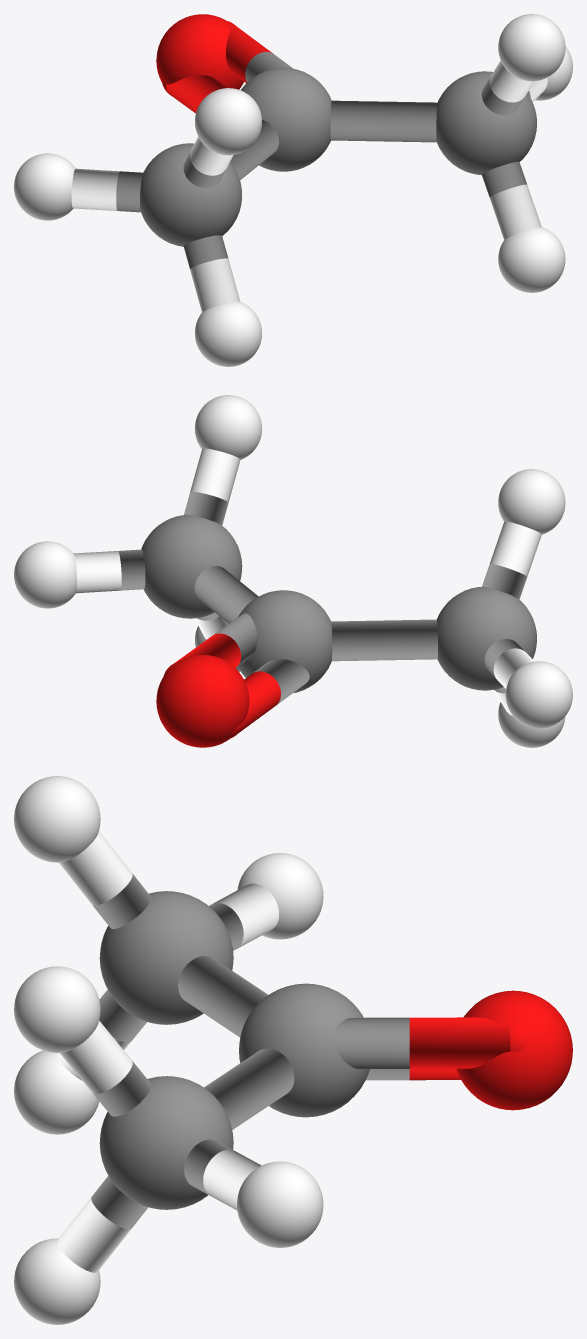
File: acetone 1.obj
3 views of the same model, one above another, from view 1: azimuth 30°, elevation 25°; view 2: azimuth 150°, elevation 25°; view 3: azimuth 270°, elevation 25° (orthographic). The views are drawn at different scales.
Visible parts, largest first — view 1: C2_Atom, C3_Atom, C1_Atom, O1_Atom, Cylinder8, H1_Atom, H3_Atom, H6_Atom, H5_Atom, H7_Atom, Cylinder10, Cylinder5 (+13 smaller); view 2: C2_Atom, C3_Atom, O1_Atom, C1_Atom, Cylinder1, H7_Atom, H4_Atom, H3_Atom, H1_Atom, Cylinder8, Cylinder7, Cylinder14 (+11 smaller); view 3: C2_Atom, C3_Atom, C1_Atom, O1_Atom, H4_Atom, H1_Atom, H3_Atom, H5_Atom, H6_Atom, Cylinder16, H7_Atom, Cylinder8 (+13 smaller).
Boxes of the visible parts, <box> form: C2_Atom: <box>436,71,536,175</box>; C3_Atom: <box>140,143,241,246</box>; C1_Atom: <box>241,67,331,171</box>; O1_Atom: <box>156,14,243,89</box>; Cylinder8: <box>330,100,437,142</box>; H1_Atom: <box>498,14,565,81</box>; H3_Atom: <box>195,88,261,155</box>; H6_Atom: <box>195,301,261,366</box>; H5_Atom: <box>498,227,565,292</box>; H7_Atom: <box>14,153,75,220</box>; Cylinder10: <box>489,184,541,239</box>; Cylinder5: <box>190,258,240,311</box>; C2_Atom: <box>141,515,242,618</box>; C3_Atom: <box>437,586,536,690</box>; O1_Atom: <box>156,654,249,747</box>; C1_Atom: <box>238,590,332,692</box>; Cylinder1: <box>331,619,437,661</box>; H7_Atom: <box>505,661,572,728</box>; H4_Atom: <box>14,541,77,608</box>; H3_Atom: <box>498,469,565,534</box>; H1_Atom: <box>195,395,261,459</box>; Cylinder8: <box>194,566,258,623</box>; Cylinder7: <box>490,521,541,576</box>; Cylinder14: <box>190,448,240,502</box>; C2_Atom: <box>99,1076,233,1209</box>; C3_Atom: <box>99,891,233,1024</box>; C1_Atom: <box>239,983,369,1117</box>; O1_Atom: <box>456,990,572,1110</box>; H4_Atom: <box>237,1161,323,1247</box>; H1_Atom: <box>14,966,100,1052</box>; H3_Atom: <box>14,776,100,862</box>; H5_Atom: <box>14,1238,100,1324</box>; H6_Atom: <box>14,1050,99,1134</box>; Cylinder16: <box>409,1017,510,1068</box>; H7_Atom: <box>237,853,323,939</box>; Cylinder8: <box>204,1048,294,1129</box>.
Size of the model in its own units: 4.77 by 2.26 by 3.26.
